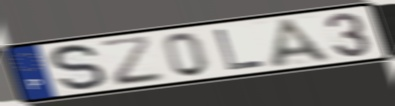0: (160, 30, 212, 79)
3: (325, 11, 373, 59)
A: (268, 16, 336, 70)
L: (212, 27, 269, 72)
S: (48, 42, 109, 94)
Z: (96, 33, 169, 88)
